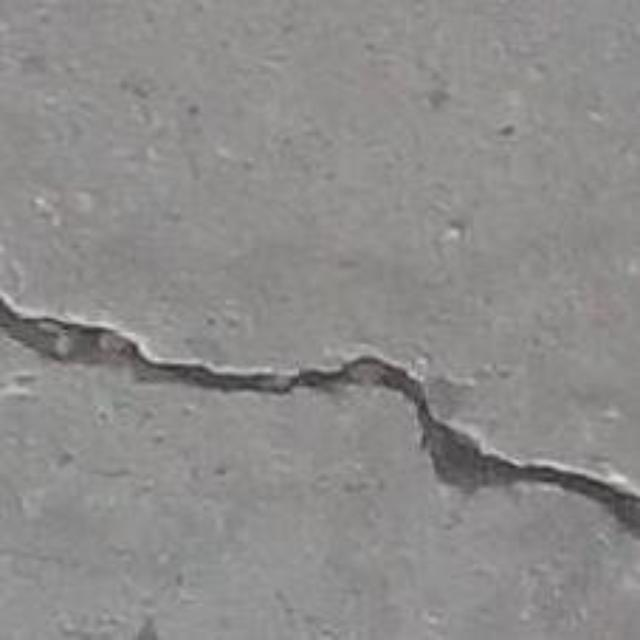crack: (0, 294, 639, 535)
